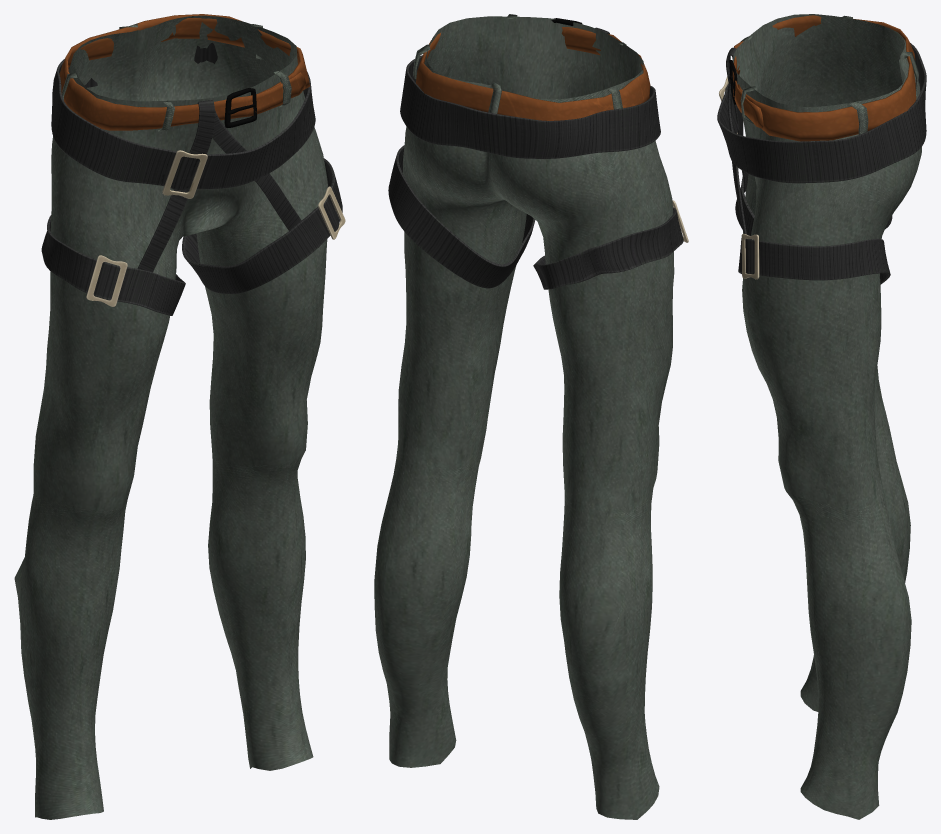
File: pant.fbx
The picture shows the model from 3 angles, left to right: view 1: azimuth 30°, elevation 25°; view 2: azimuth 150°, elevation 25°; view 3: azimuth 270°, elevation 25°; orthographic projection. The views are drawn at different scales.
Parts seen in each view (by area): view 1: pent; view 2: pent; view 3: pent.
Part boxes in pixels (x1,y1,x2,y2): pent: (14,14,345,819); pent: (374,14,688,819); pent: (717,14,926,819).
Bounding box in the file's own units: 37.98 × 96.36 × 25.92.
